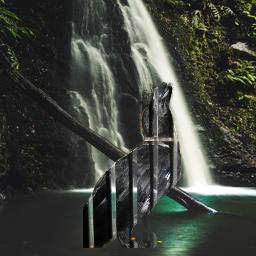Crow: (83, 82, 181, 248)
